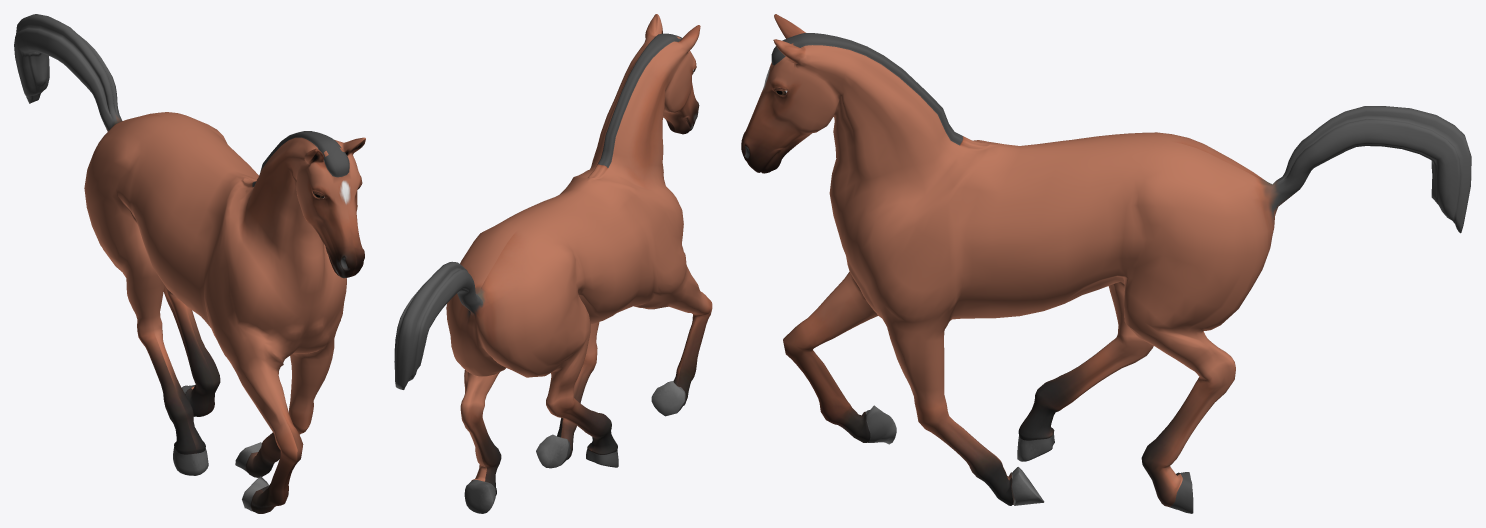
Rendered from horse_obj_5.obj.
The picture shows the model from 3 angles, left to right: view 1: azimuth 30°, elevation 25°; view 2: azimuth 150°, elevation 25°; view 3: azimuth 270°, elevation 25°; orthographic projection. The views are drawn at different scales.
Visible parts, largest first — view 1: Figure_1; view 2: Figure_1; view 3: Figure_1.
Part boxes in pixels (<box>): Figure_1: <box>14,14,365,513</box>; Figure_1: <box>394,14,712,513</box>; Figure_1: <box>741,14,1471,513</box>.
Size of the model in its own units: 0.2421 by 0.7779 by 1.1.
Materials: 7 (7 with a texture image).
